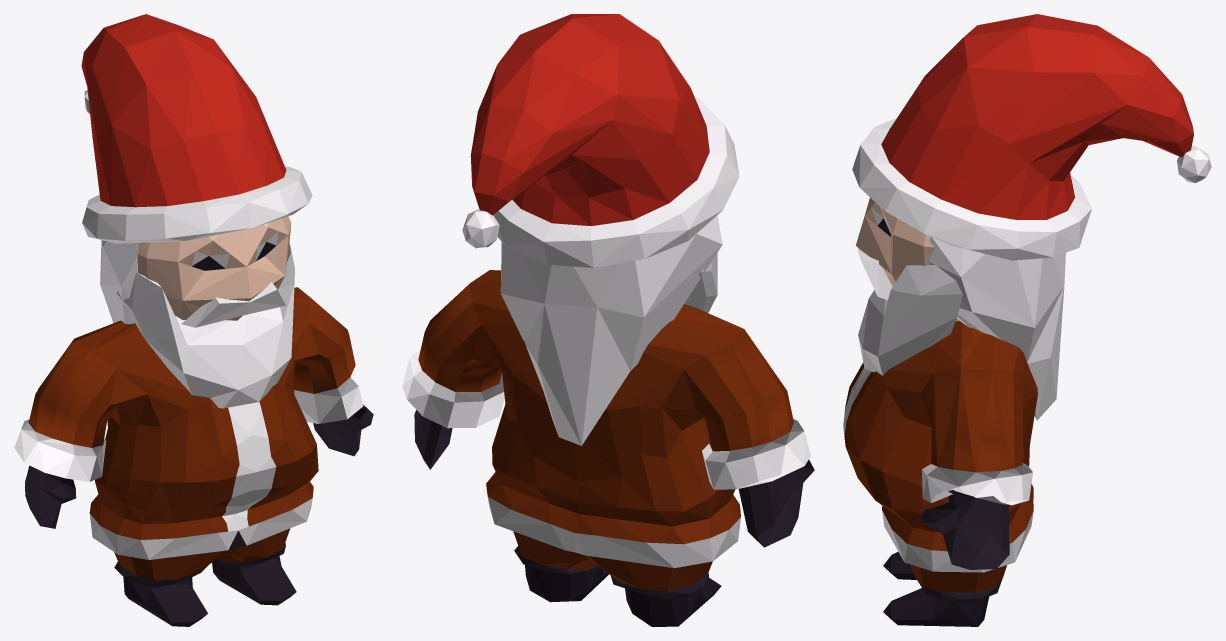
The model's file is Santa.gltf.
3 renders of one model, left to right at view 1: azimuth 30°, elevation 25°; view 2: azimuth 150°, elevation 25°; view 3: azimuth 270°, elevation 25°, orthographic. The views are drawn at different scales.
Visible parts, largest first — view 1: Cube; view 2: Cube; view 3: Cube.
Boxes of the visible parts, box(x1,y1,x2,y2) form: Cube: box(14, 14, 373, 626); Cube: box(402, 14, 814, 626); Cube: box(843, 14, 1211, 626).
Bounding box in the file's own units: 6.44 × 9.84 × 5.74.
Materials: 1 (1 with a texture image).
